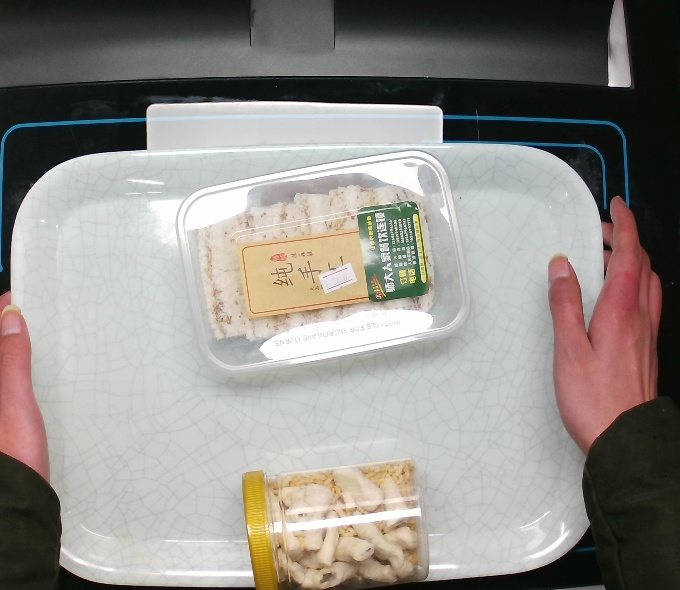wcq-GuiHuaGao: (169, 146, 477, 381)
wcq-MaiYaTang: (234, 448, 437, 590)
